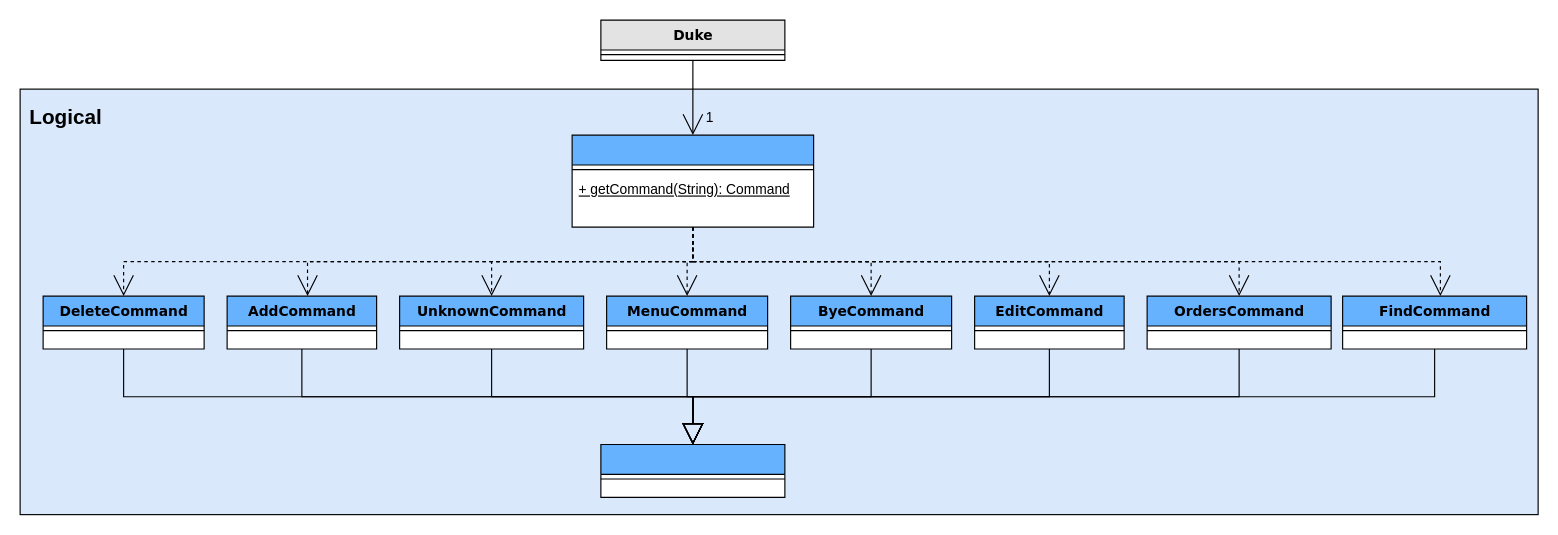
This 1558x535 diagram has some shape labels left out. Here are the shapes that lost their labels. From the top down, the box of each, then its label:
(571, 134, 814, 227): Parser
(600, 443, 785, 497): Command
